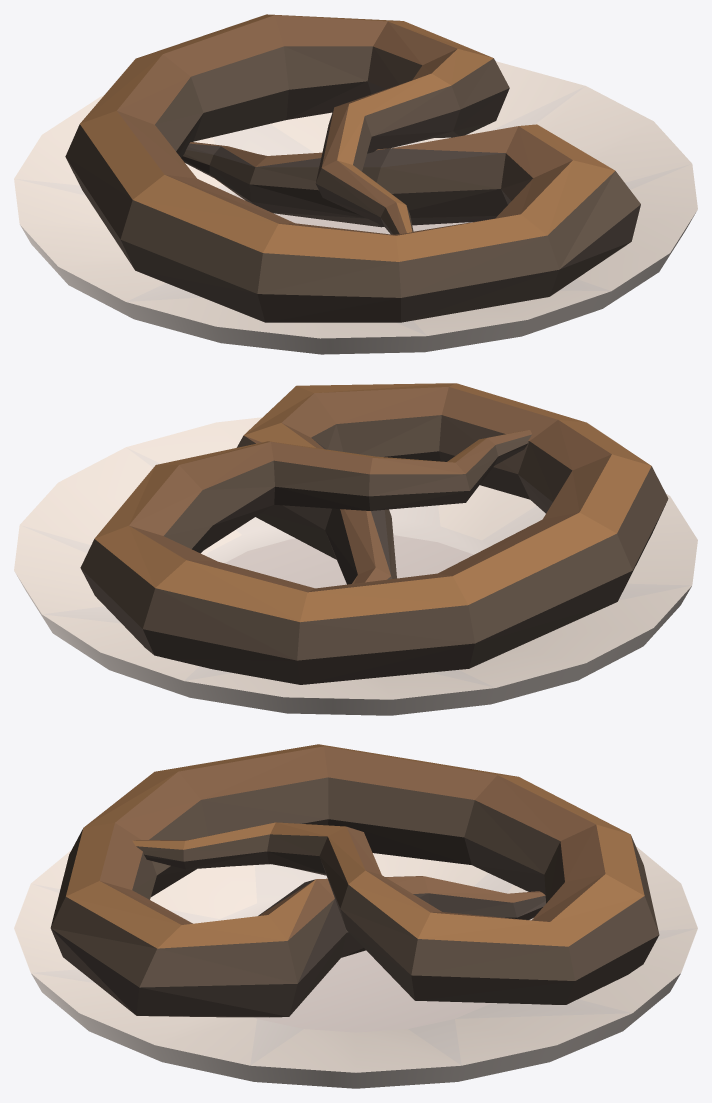
File: pretzel_plate.fbx
The picture shows the model from 3 angles, top to bottom: view 1: azimuth 30°, elevation 25°; view 2: azimuth 150°, elevation 25°; view 3: azimuth 270°, elevation 25°; orthographic projection.
Parts seen in each view (by area): view 1: pretezel; view 2: pretezel; view 3: pretezel.
Boxes of the visible parts, x1=… form: pretezel: x1=14, y1=14, x2=697, y2=354; pretezel: x1=14, y1=383, x2=697, y2=715; pretezel: x1=14, y1=744, x2=697, y2=1088.
Size of the model in its own units: 23.35 by 6.42 by 23.35.
